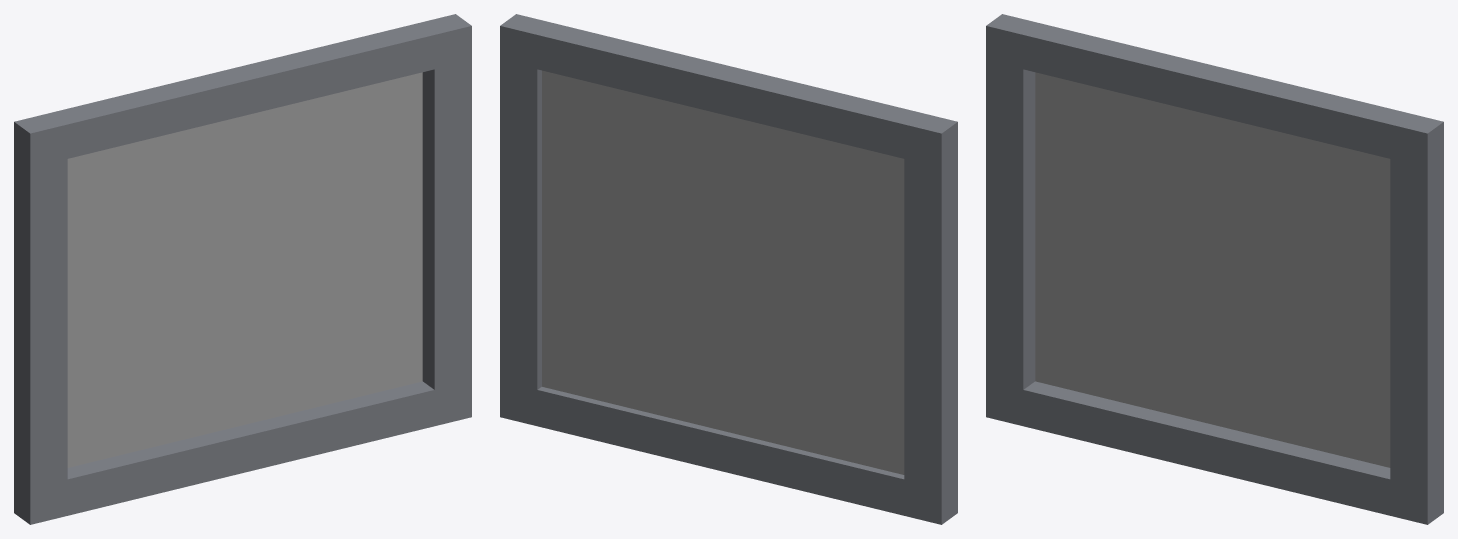
The model's file is Window_1B.fbx.
3 renders of one model, left to right at view 1: azimuth 30°, elevation 25°; view 2: azimuth 150°, elevation 25°; view 3: azimuth 330°, elevation 25°, orthographic.
Parts seen in each view (by area): view 1: Window_Glass2, polySurface1993; view 2: Window_Glass2, polySurface1993; view 3: Window_Glass2, polySurface1993.
Part boxes in pixels (<box>): Window_Glass2: <box>67,72,422,467</box>; polySurface1993: <box>14,14,471,524</box>; Window_Glass2: <box>542,70,904,474</box>; polySurface1993: <box>500,14,957,524</box>; Window_Glass2: <box>1035,72,1390,467</box>; polySurface1993: <box>986,14,1443,524</box>.
Size of the model in its own units: 2.36 by 2 by 0.15.
Materials: 2 (1 with a texture image).
